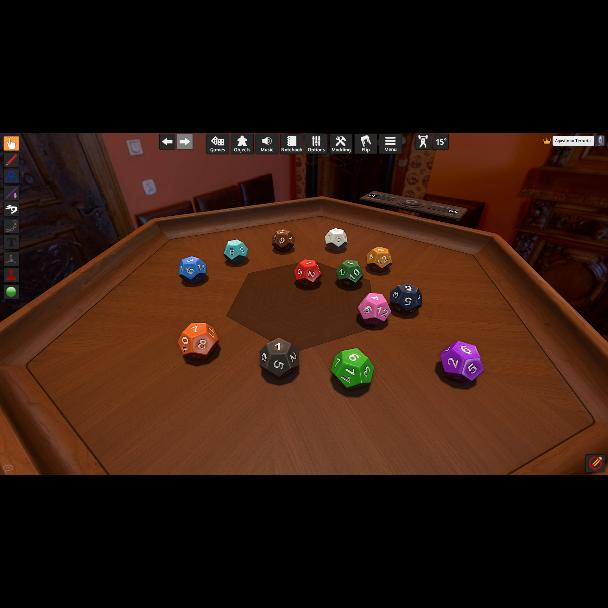d12: (439, 341, 483, 383), (329, 346, 369, 386), (260, 338, 300, 378), (179, 322, 219, 359), (358, 293, 390, 325), (390, 282, 420, 314), (180, 256, 208, 284), (366, 247, 392, 273), (224, 239, 248, 265), (335, 260, 359, 284), (296, 260, 318, 286), (272, 230, 292, 252), (325, 228, 345, 248)
